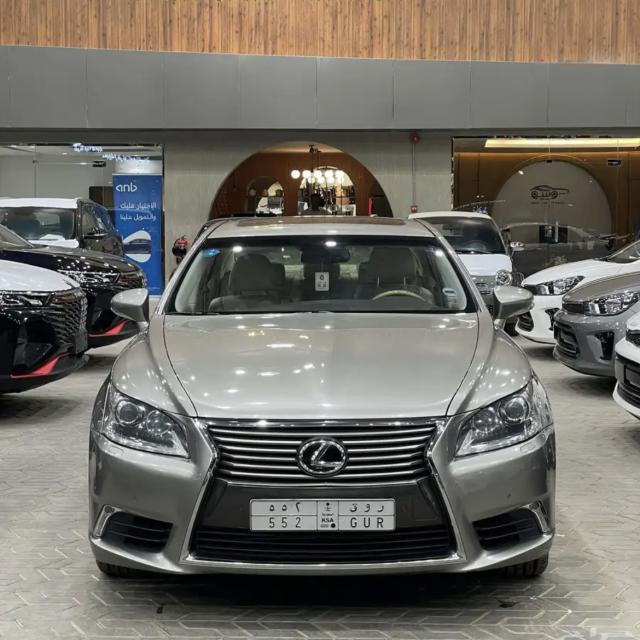license_plate: (248, 497, 398, 533)
